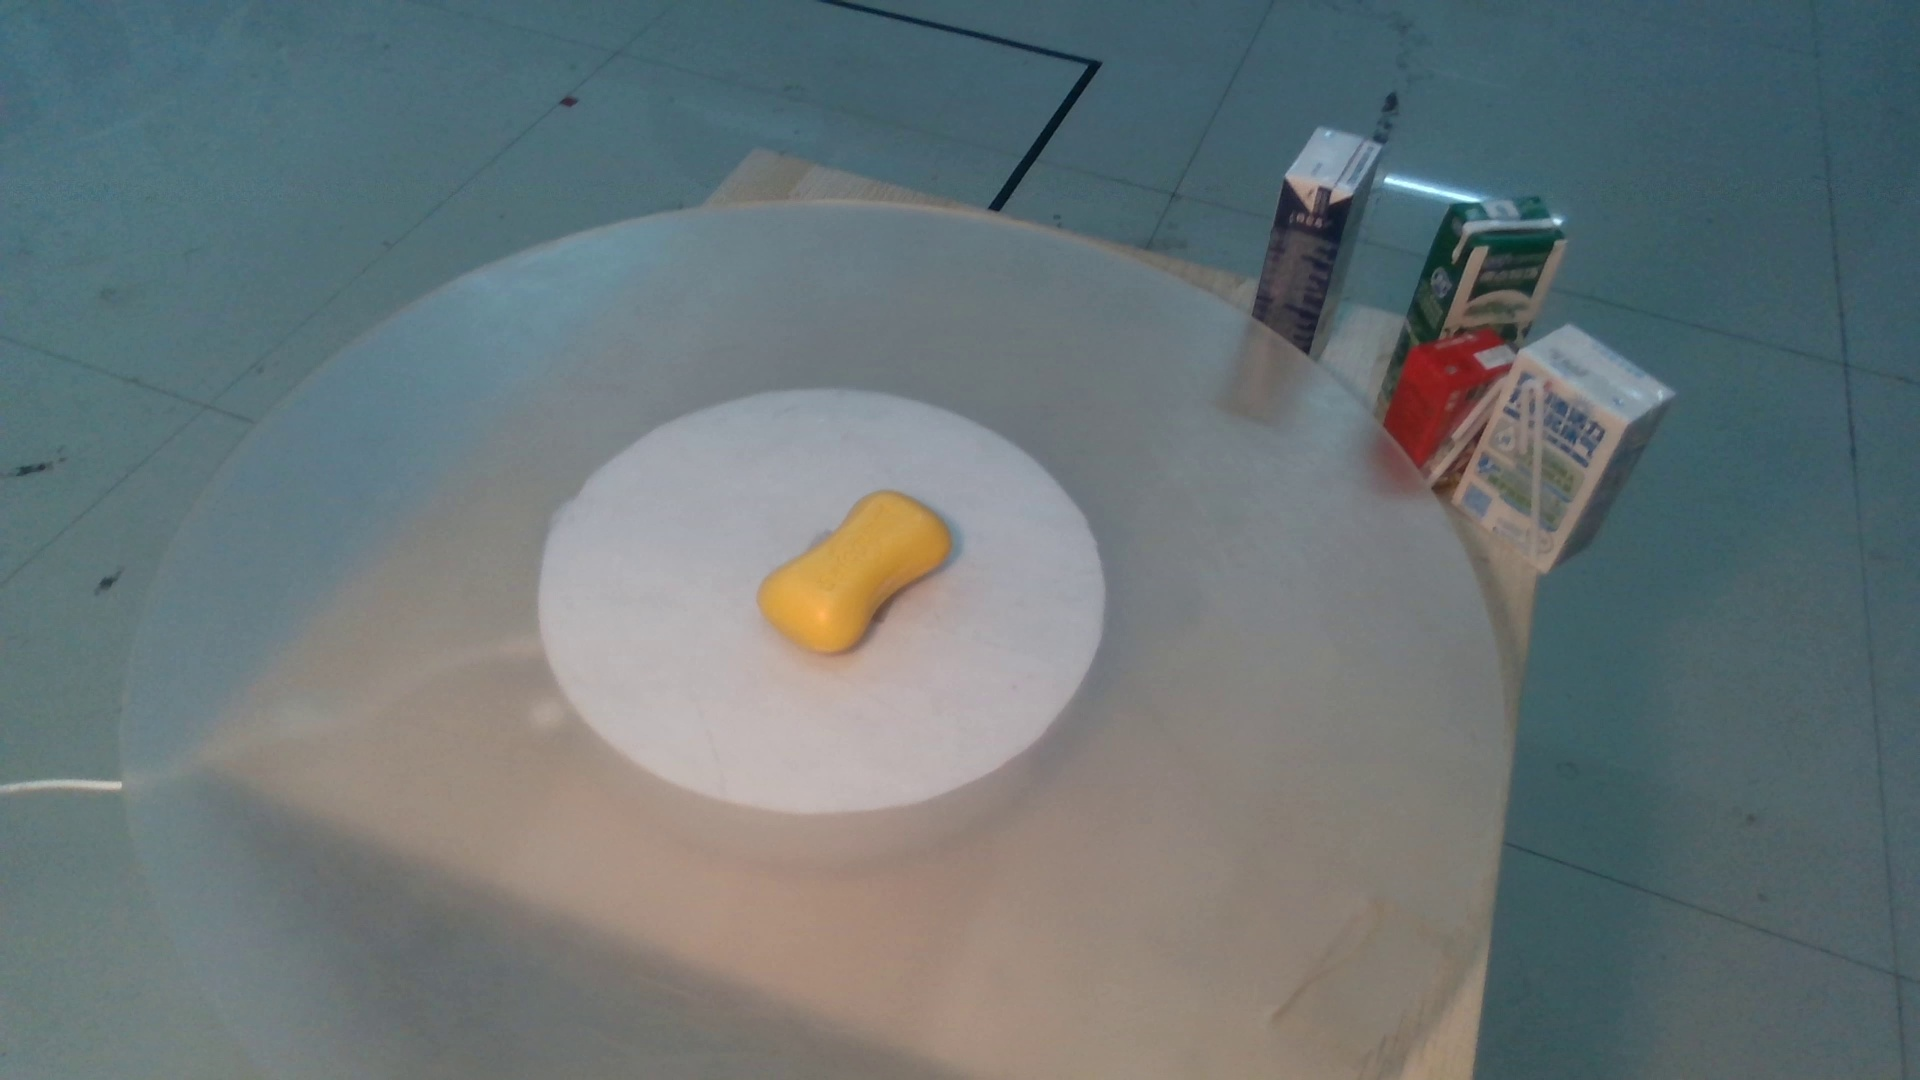CA003_1: (737, 472, 971, 688)
